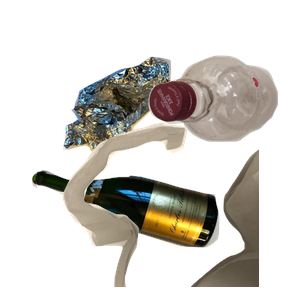glass: (29, 167, 241, 300)
metal: (61, 54, 225, 202)
plastic: (146, 53, 300, 187)
trash: (60, 120, 300, 300)
